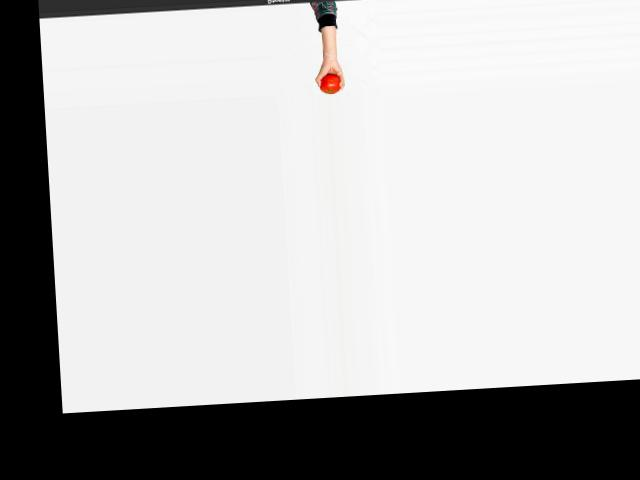tomato: (319, 73, 341, 94)
